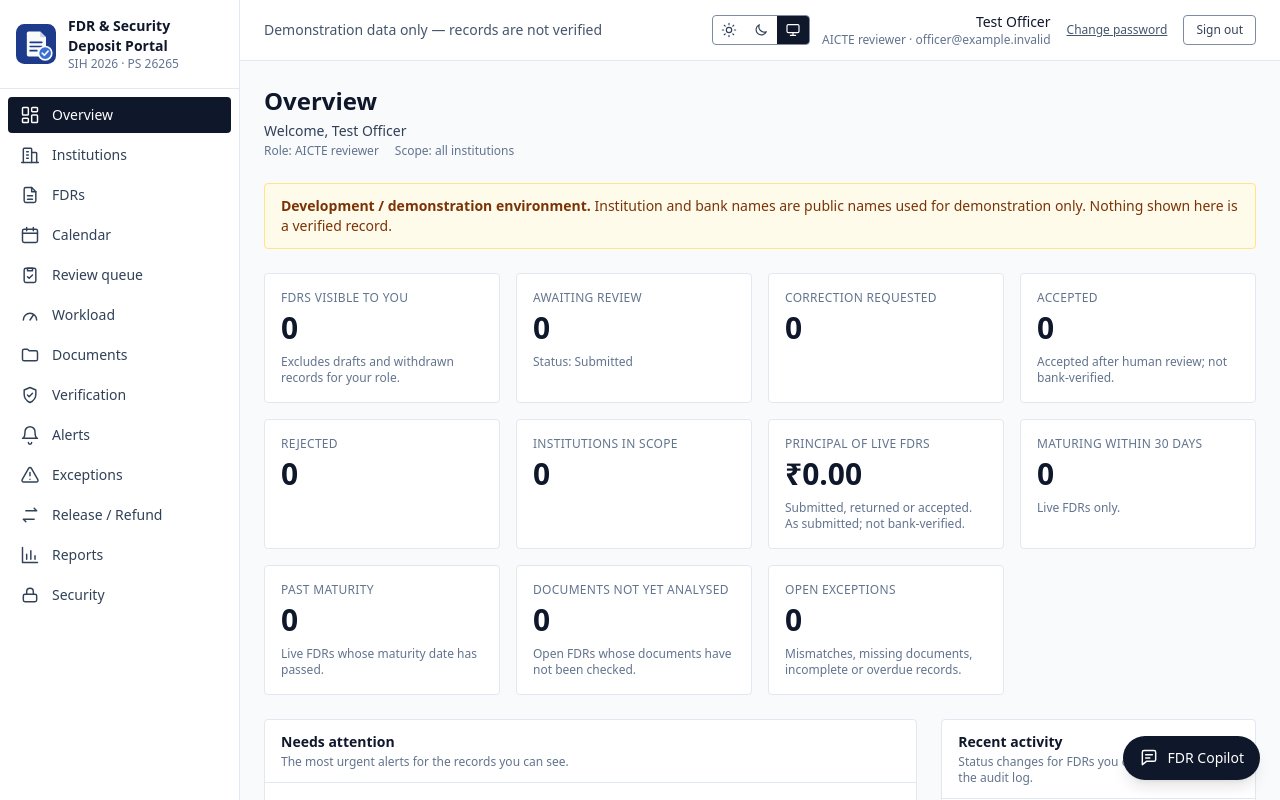
FDR Copilot answer feedback › offers 'Helpful' and 'Not helpful' under an answer, as a labelled group
Expected: the navigation bar named "Main" is shown, left=0, top=89, right=239, bottom=621
Click the button with aria-label "Open FDR Copilot": (1192, 758) left=1124, top=736, right=1260, bottom=780
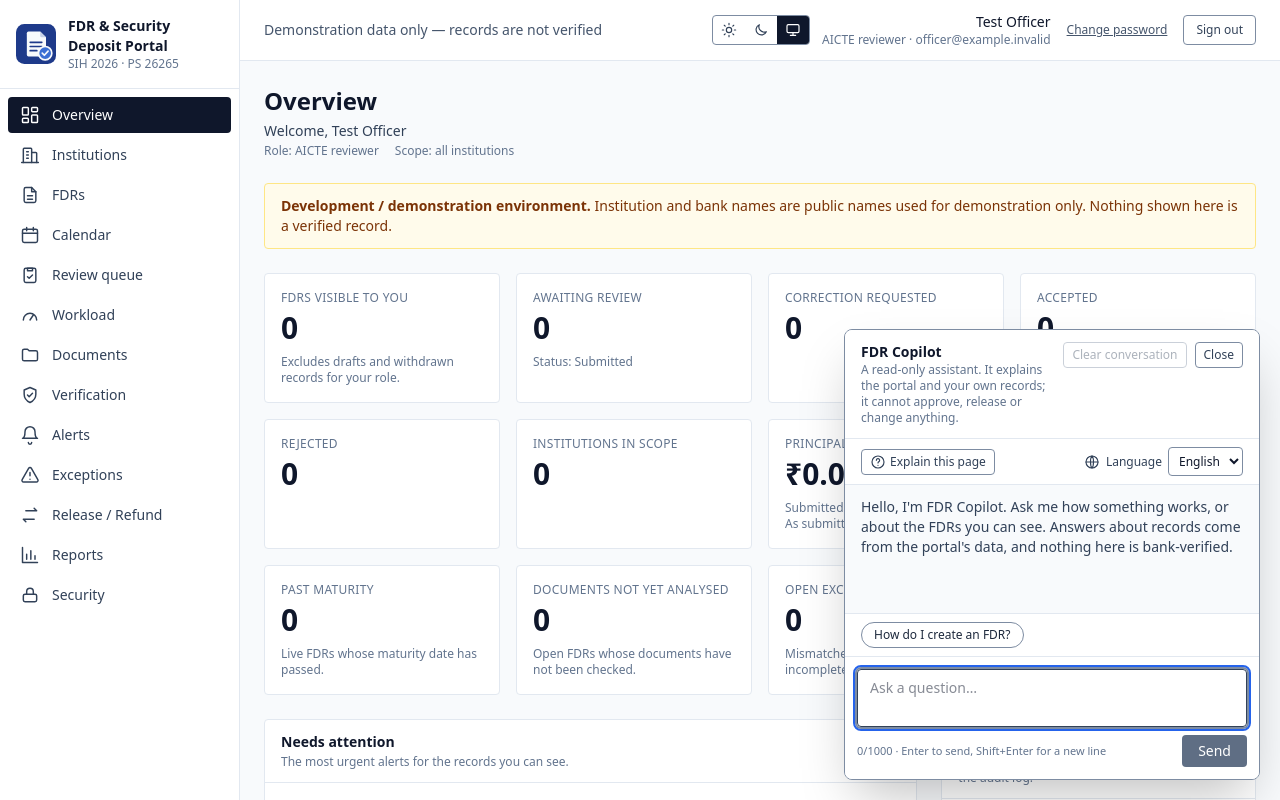
In the text box named "Your question": (1052, 698) left=857, top=669, right=1247, bottom=727, type "hello"
Then press Enter
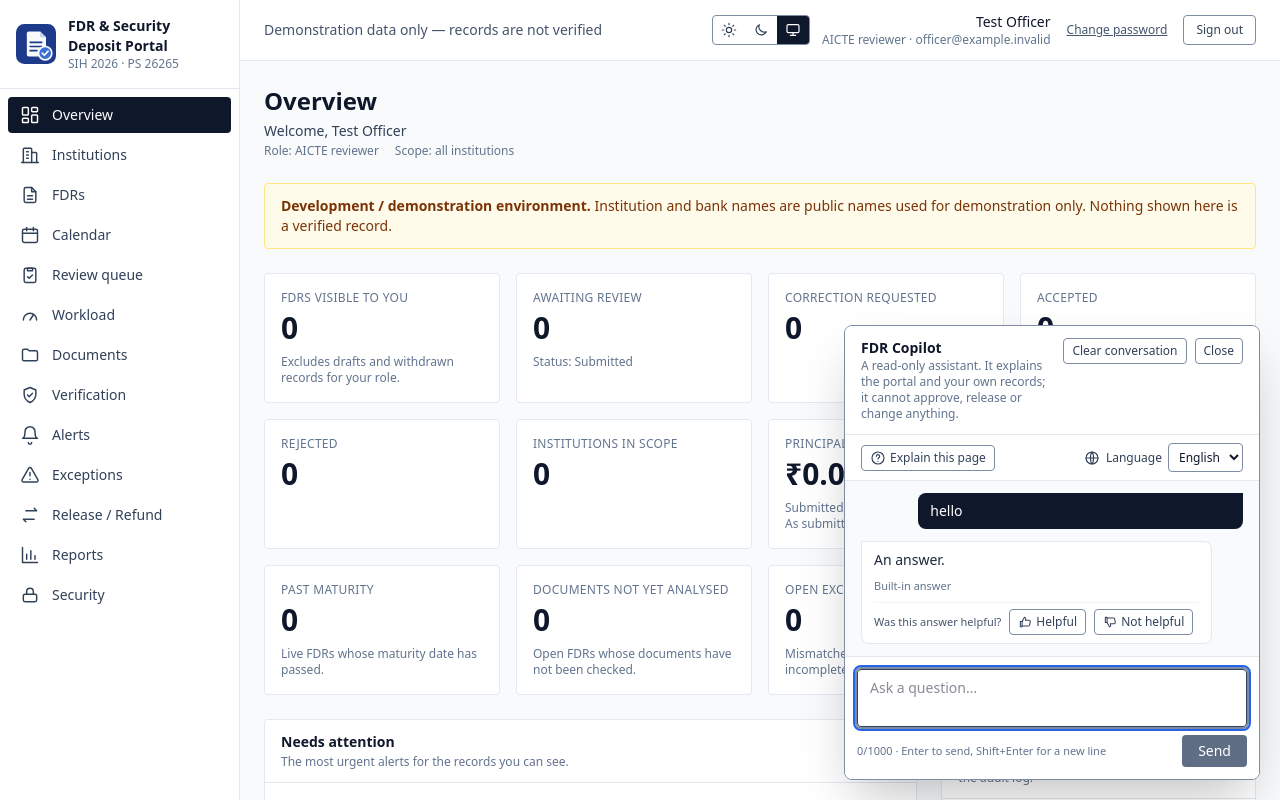
Expected: the text "An answer." is shown, left=874, top=550, right=945, bottom=569
Expected: the button "Helpful" is shown, left=1009, top=609, right=1086, bottom=635
Expected: the button "Not helpful" is shown, left=1094, top=609, right=1193, bottom=635
